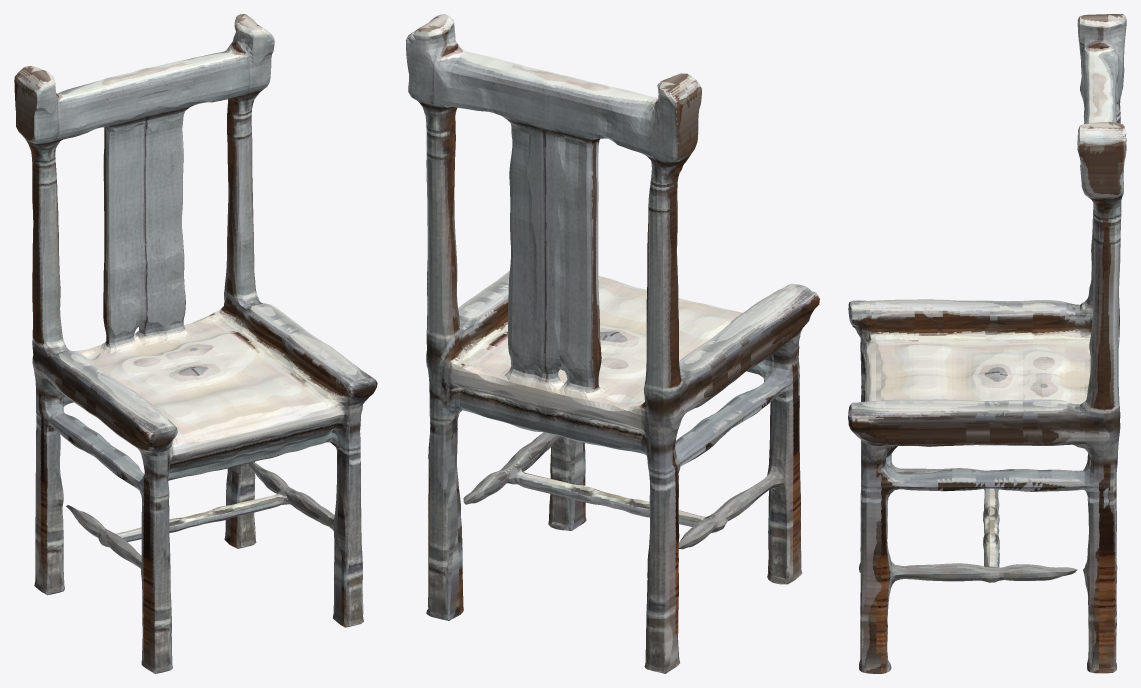
The model's file is chair_textured.obj.
3 renders of one model, left to right at view 1: azimuth 30°, elevation 25°; view 2: azimuth 150°, elevation 25°; view 3: azimuth 270°, elevation 25°, orthographic. The views are drawn at different scales.
Bounding box in the file's own units: 0.4861 × 1 × 0.4607.
Materials: 1 (1 with a texture image).
